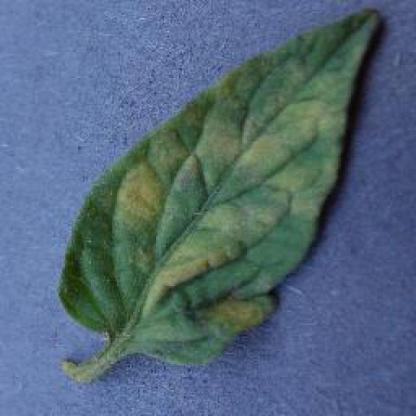Tomato_Leaf_Mold: (58, 6, 386, 367)
